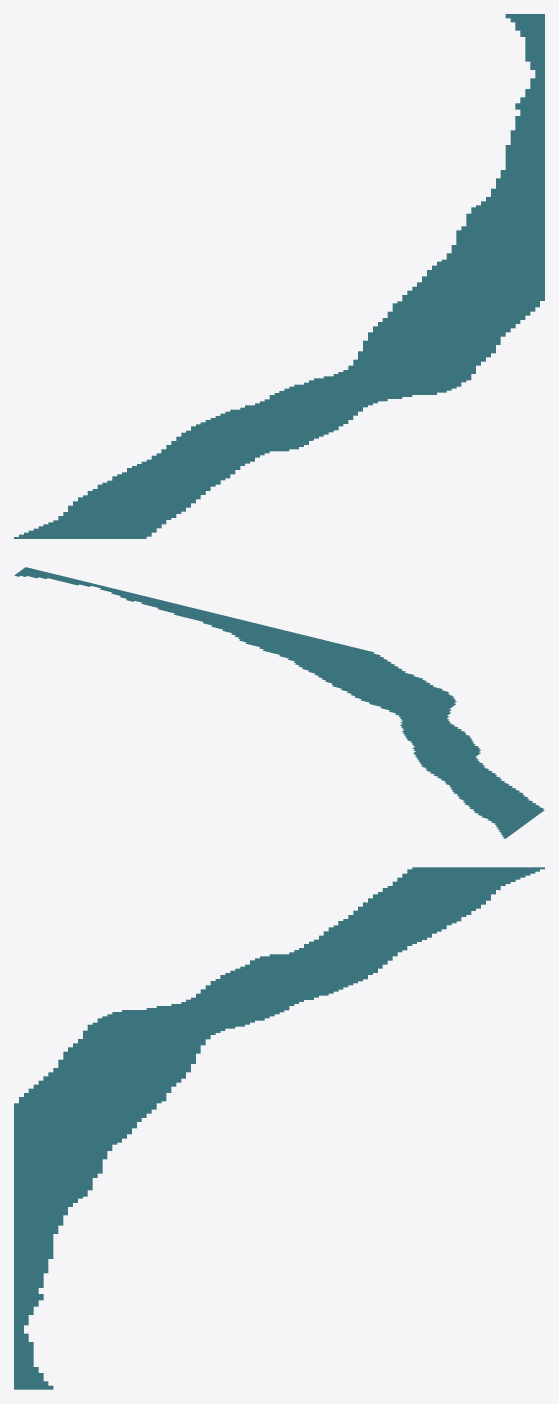
The model's file is eau-reference-3-1.glb.
3 renders of one model, top to bottom at view 1: azimuth 90°, elevation 25°; view 2: azimuth 150°, elevation 25°; view 3: azimuth 270°, elevation 25°, orthographic. The views are drawn at different scales.
Visible parts, largest first — view 1: eau-reference-3-1; view 2: eau-reference-3-1; view 3: eau-reference-3-1.
Part boxes in pixels (x1,y1,x2,y2): eau-reference-3-1: (14, 14, 544, 538); eau-reference-3-1: (14, 567, 544, 838); eau-reference-3-1: (14, 867, 544, 1389).
Size of the model in its own units: 1008 by 1.21 by 432.
